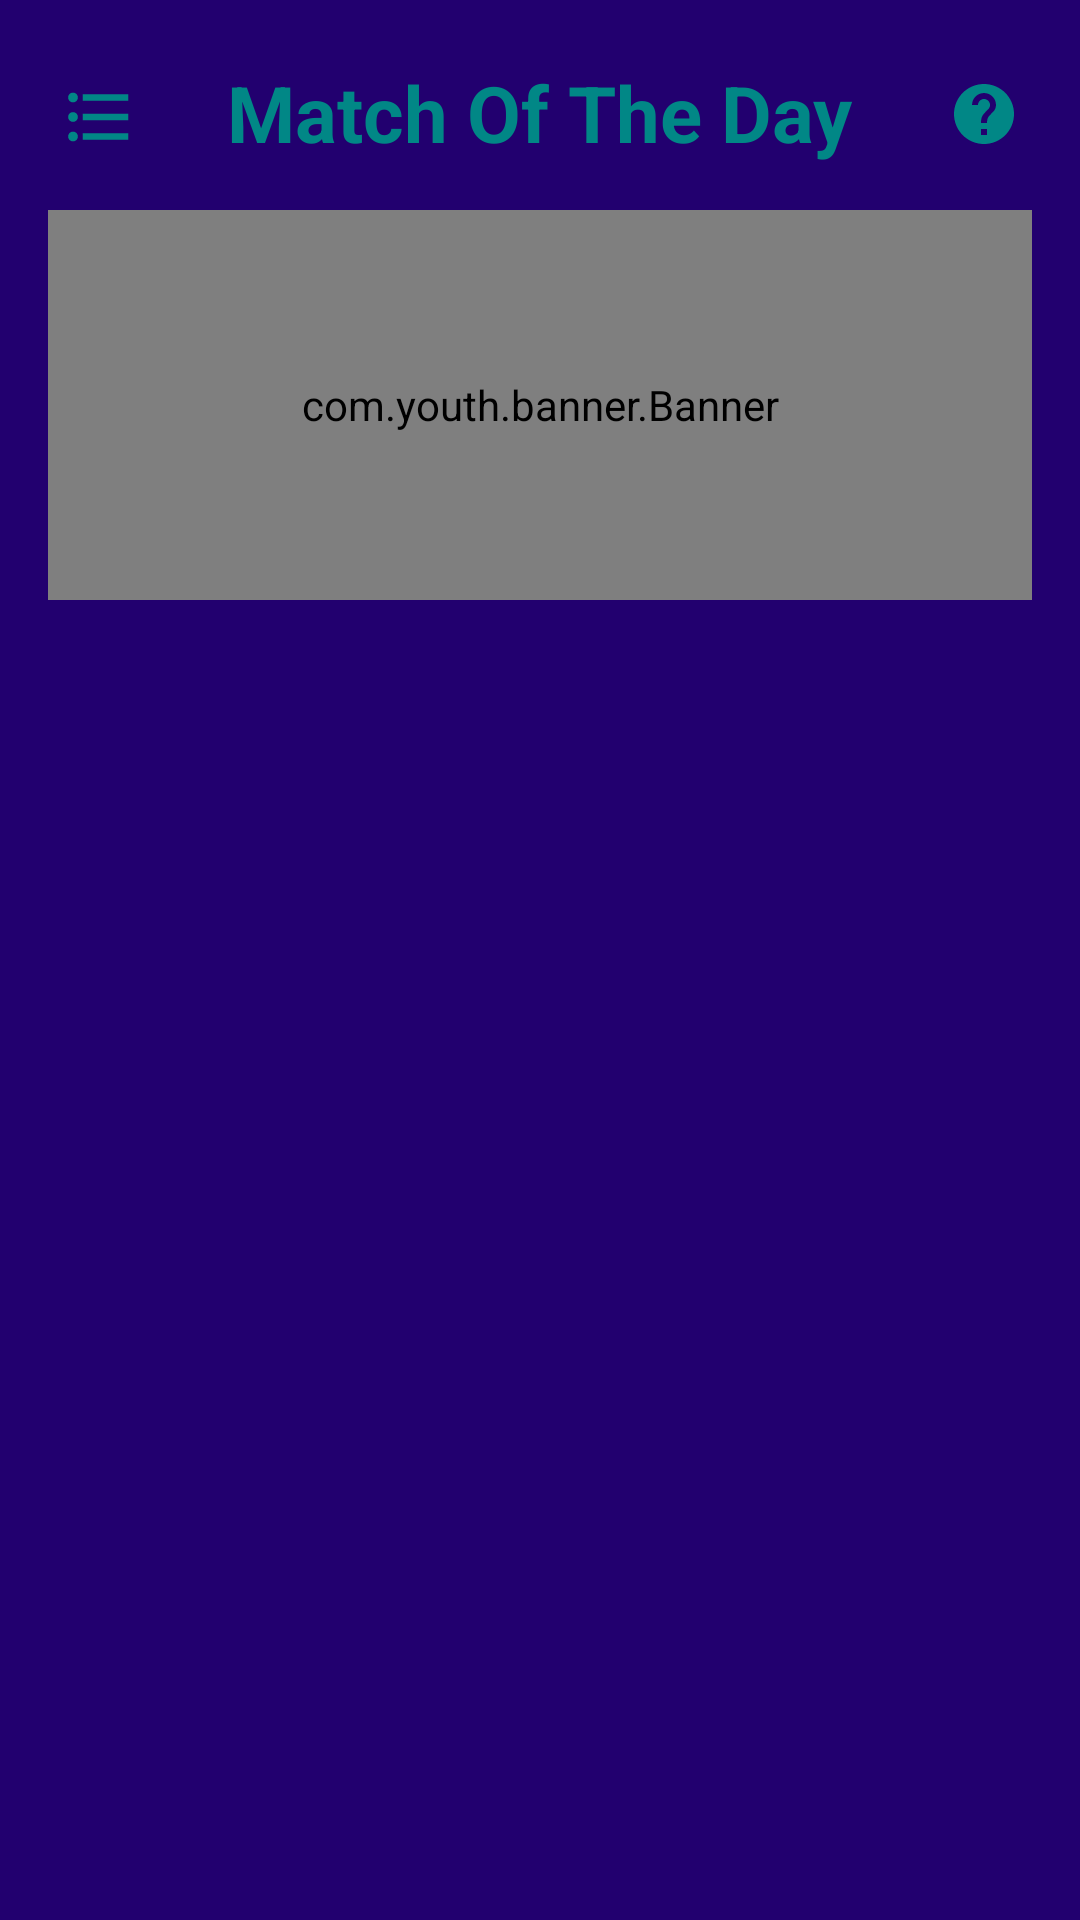

Icons on this 1080*1920 Android screen, each with the point to tap as [x,y]:
help: [984,114]
list: [98,117]
